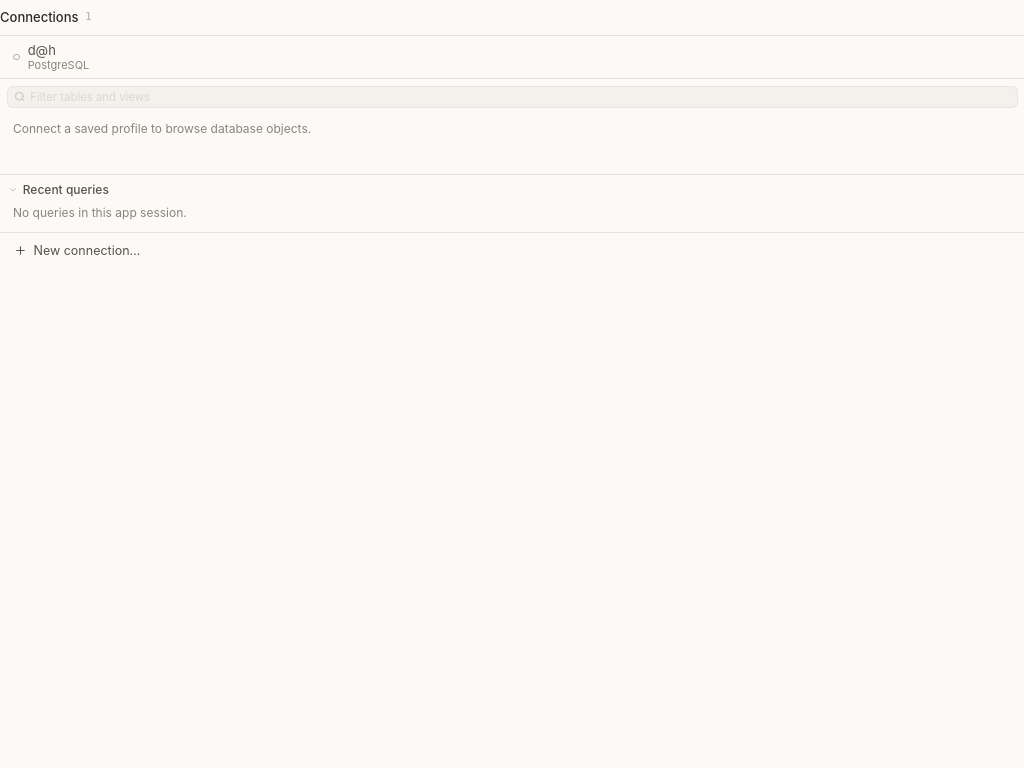
Test: DatabaseNavContent saved connections › opens credential recovery only after a saved profile reports credentialRequired
Step 1. Click the text "d@h" → (42, 50), box [28,42,56,58]
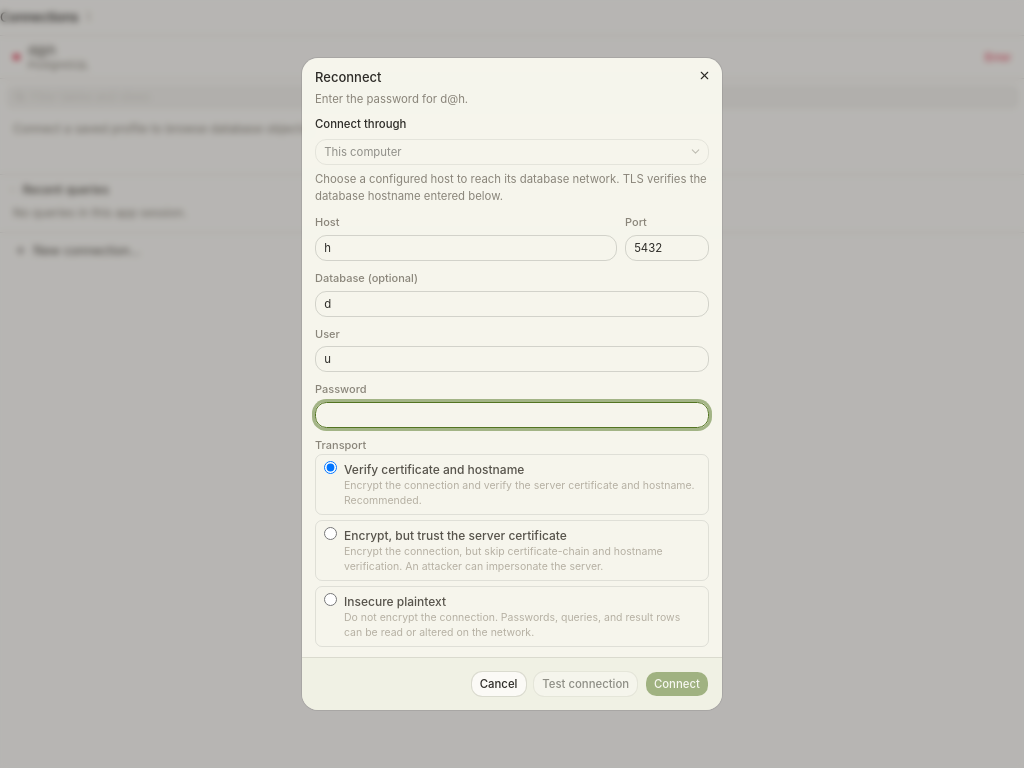
Now the heading "Reconnect" is shown, box [315,69,382,85]
Now the button "Connect" is shown, box [645,671,709,697]
